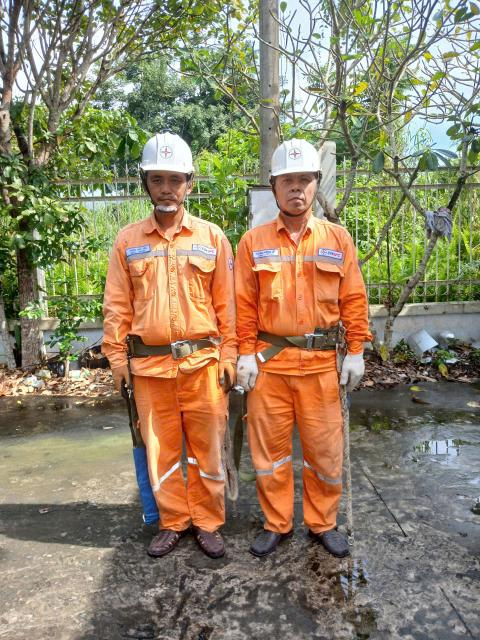gloves: (108, 360, 147, 395), (336, 349, 362, 388), (231, 356, 257, 391), (210, 357, 235, 393)
harness: (111, 327, 217, 367), (237, 322, 358, 357)
helmet: (260, 131, 328, 185), (142, 124, 200, 185)
shoes: (234, 517, 296, 558), (304, 520, 360, 562), (183, 522, 240, 561), (136, 512, 179, 563)
